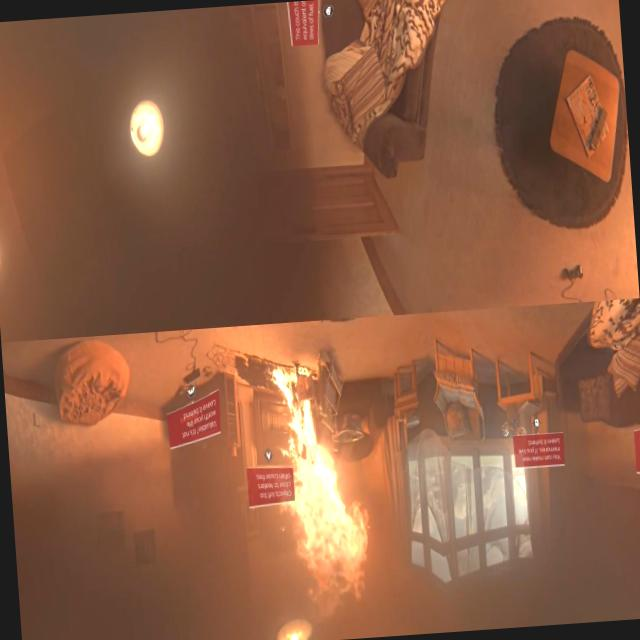fire: (270, 369, 371, 616)
